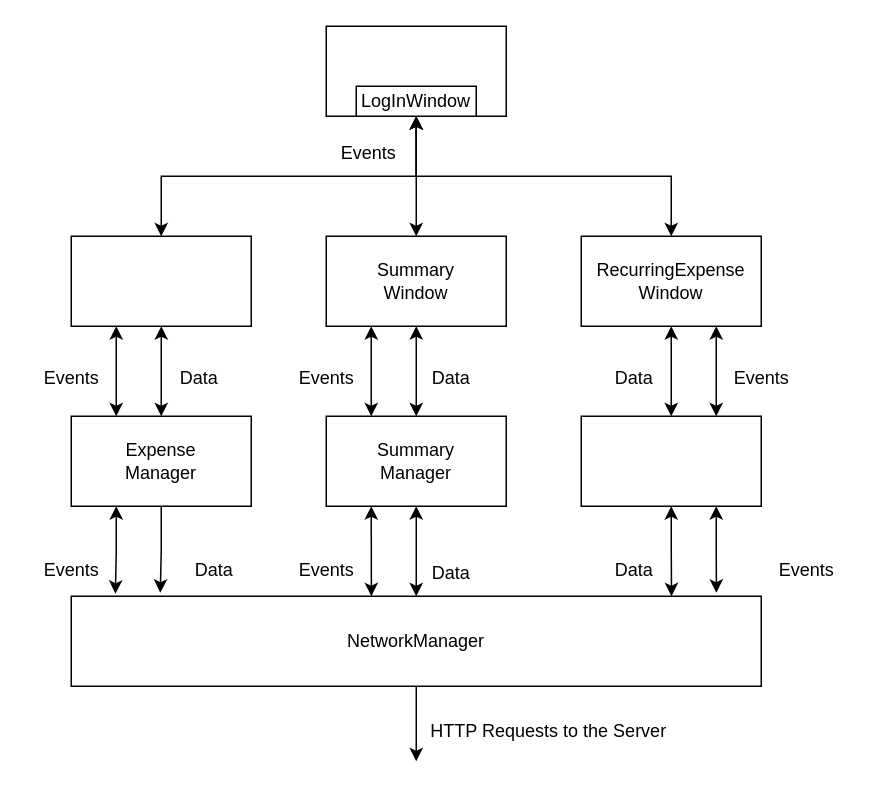
The diagram is 876 pixels wide and 800 high, and some of its shapes have lost their labels. The box of each missing label's shape, as (x1, y1, x2, y2) in pixels:
Expense Window: (70, 235, 251, 326)
MainWindow: (325, 25, 506, 116)
RecurringExpense Manager: (580, 415, 761, 506)
